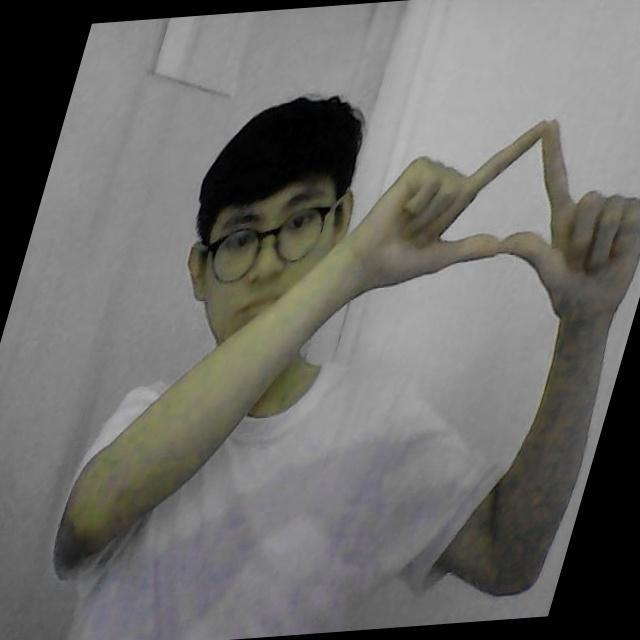A: (374, 112, 640, 300)
